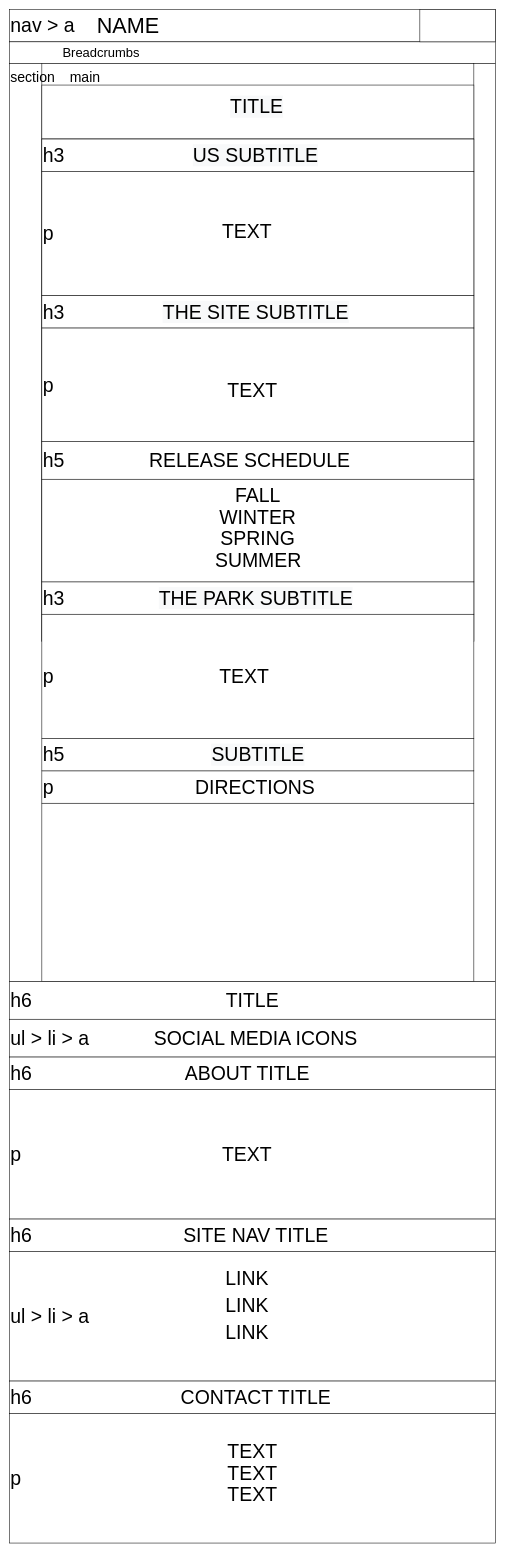
Image size: 505x1553. Some labels were removed from this diagram. The shapes that lost their labels are listed below. From the top down, each one's box as (x1, y1, x2, y2) in pixels, then its label:
(419, 9, 495, 42): button .navbar-toggler
(9, 41, 495, 63): nav > ol
(41, 85, 474, 139): h1
(41, 479, 474, 582): ul > li
(41, 803, 474, 981): MAP
